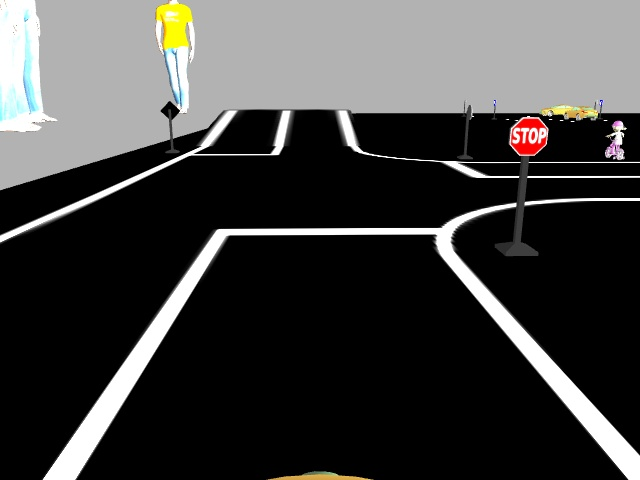Pedestrian: (603, 115, 626, 160)
Stop: (503, 114, 548, 157)
